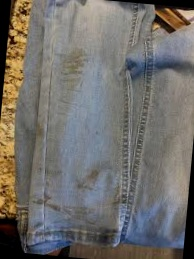earth: (61, 48, 85, 86), (77, 169, 100, 191), (66, 206, 95, 222), (36, 196, 59, 212)
